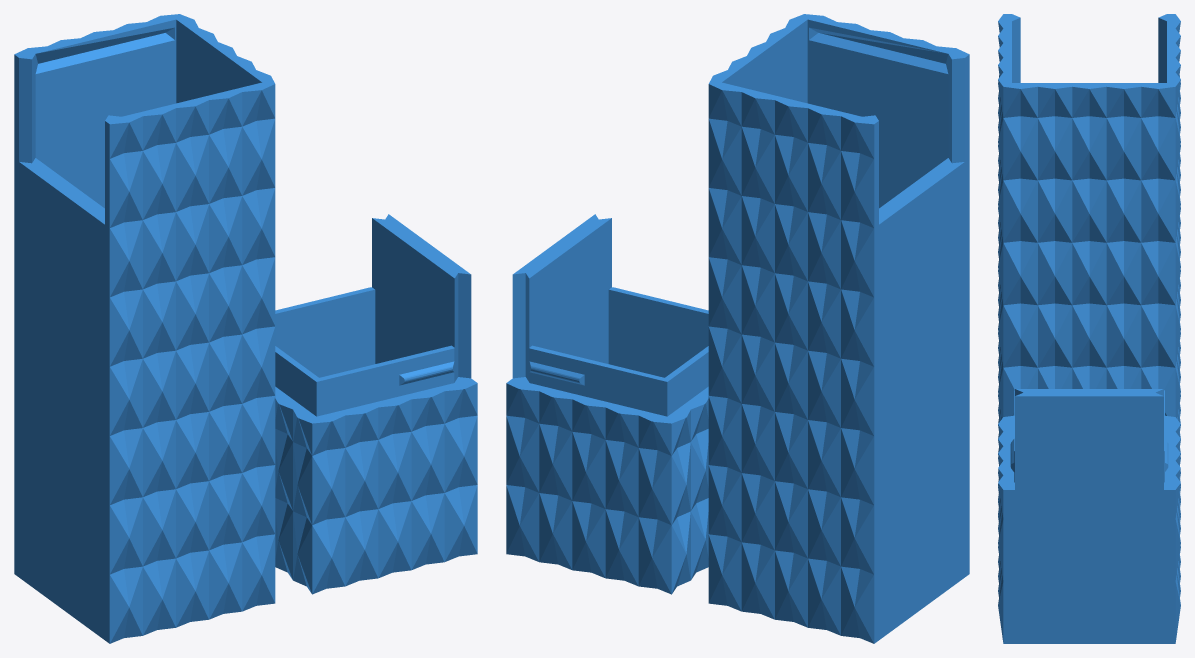
File: PensilCase.fbx
3 renders of one model, left to right at view 1: azimuth 30°, elevation 25°; view 2: azimuth 150°, elevation 25°; view 3: azimuth 270°, elevation 25°, orthographic. The views are drawn at different scales.
Parts seen in each view (by area): view 1: node_id54, node_id52; view 2: node_id54, node_id52; view 3: node_id54, node_id52.
Boxes of the visible parts, bbox=[...] form: node_id54: bbox=[14, 14, 275, 643]; node_id52: bbox=[275, 214, 477, 594]; node_id54: bbox=[708, 14, 969, 643]; node_id52: bbox=[506, 214, 708, 594]; node_id54: bbox=[998, 14, 1180, 521]; node_id52: bbox=[998, 389, 1180, 643].
Bounding box in the file's own units: 0.3794 × 0.512 × 0.1813.
